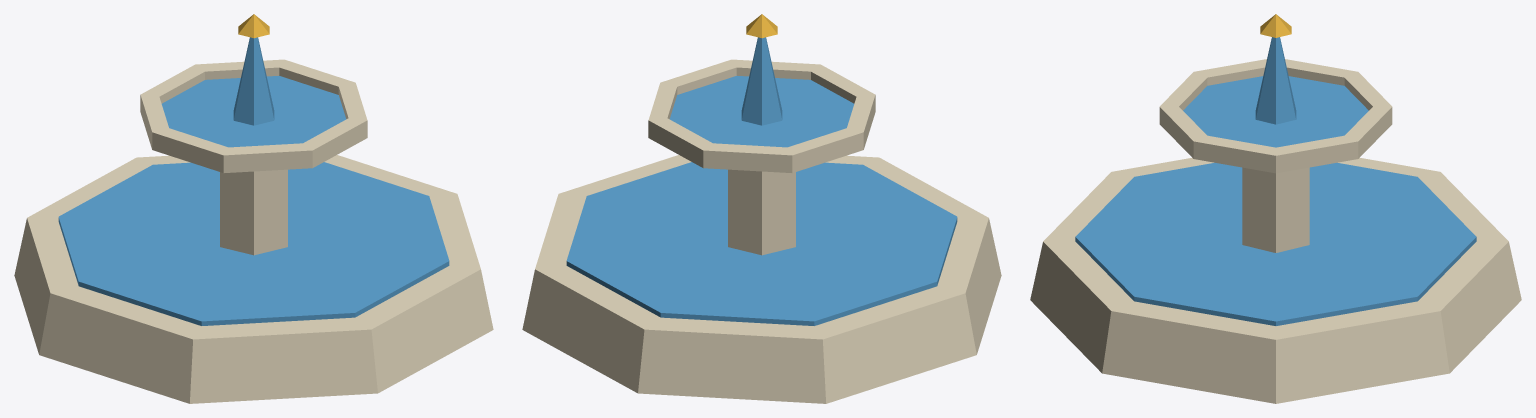
The model's file is Fountain_Small.fbx.
3 views of the same model, side by side, from view 1: azimuth 30°, elevation 25°; view 2: azimuth 150°, elevation 25°; view 3: azimuth 270°, elevation 25° (orthographic).
Visible parts, largest first — view 1: Fountain_Small; view 2: Fountain_Small; view 3: Fountain_Small.
Boxes of the visible parts, <box> form: Fountain_Small: <box>14,14,493,403</box>; Fountain_Small: <box>522,14,1001,403</box>; Fountain_Small: <box>1030,14,1521,403</box>.
Bounding box in the file's own units: 3.8 × 2.44 × 3.8.
